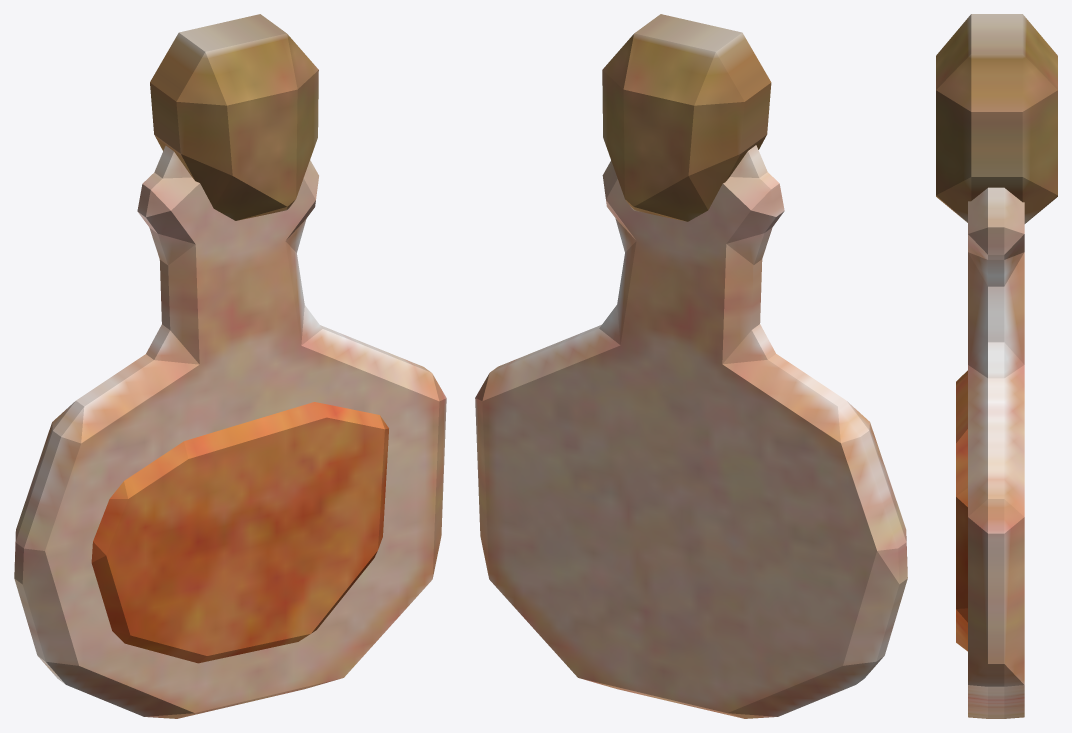
The model's file is orangepotion (1).fbx.
3 views of the same model, side by side, from view 1: azimuth 30°, elevation 25°; view 2: azimuth 150°, elevation 25°; view 3: azimuth 270°, elevation 25° (orthographic). The views are drawn at different scales.
Parts seen in each view (by area): view 1: orange, drink.orange, korkorange; view 2: orange, korkorange; view 3: orange, korkorange, drink.orange.
Boxes of the visible parts, x1=… form: orange: x1=14, y1=145, x2=446, y2=718; drink.orange: x1=91, y1=402, x2=388, y2=663; korkorange: x1=150, y1=14, x2=318, y2=220; orange: x1=475, y1=145, x2=907, y2=718; korkorange: x1=602, y1=14, x2=771, y2=221; orange: x1=968, y1=187, x2=1024, y2=718; korkorange: x1=936, y1=14, x2=1057, y2=223; drink.orange: x1=956, y1=370, x2=967, y2=651.
Bounding box in the file's own units: 41.45 × 62.58 × 10.63.
